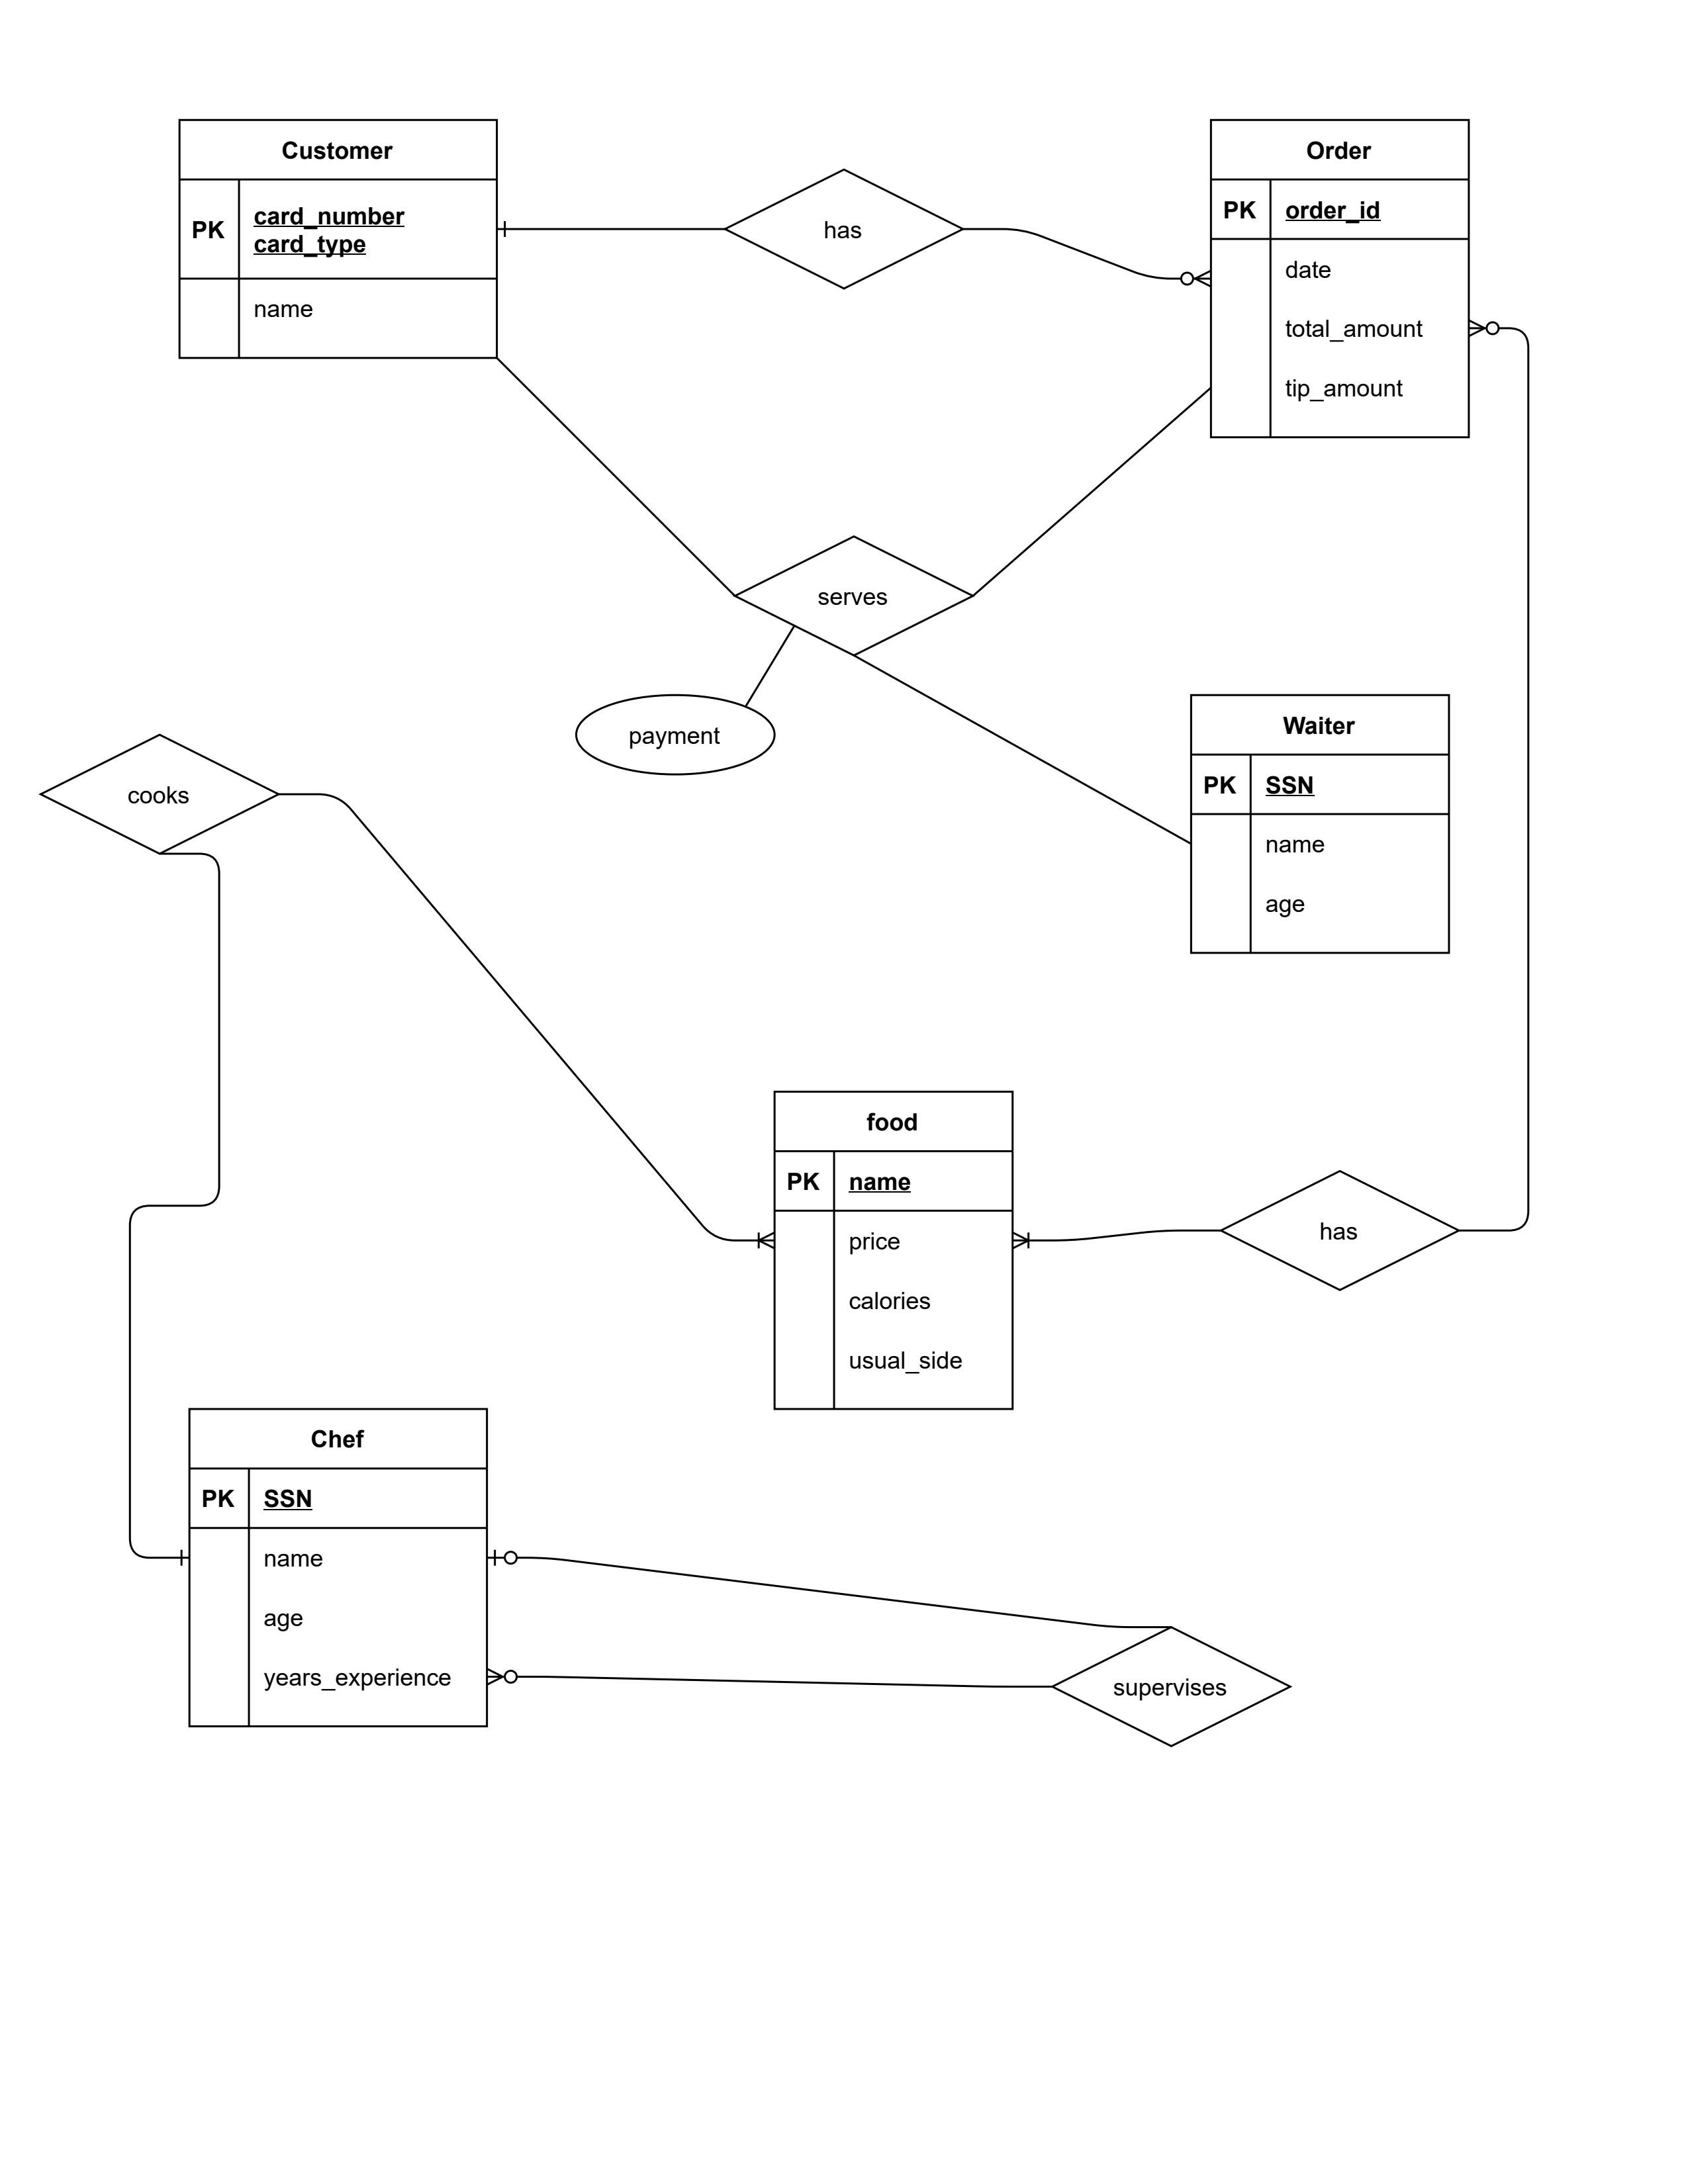Attribute: (569, 684, 784, 785)
Entity: (170, 1397, 505, 1744), (163, 108, 512, 379), (757, 1085, 1032, 1427), (1176, 686, 1454, 961)
Relationship: (1190, 108, 1488, 461), (711, 161, 970, 307), (1223, 1159, 1463, 1303), (734, 525, 979, 663), (1055, 1624, 1291, 1759), (35, 732, 280, 856)
